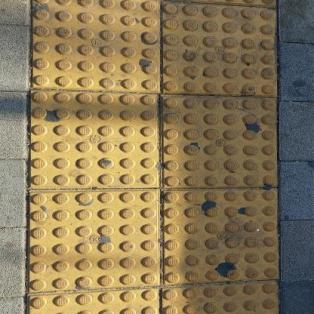Podoctatil: (14, 0, 289, 313)
